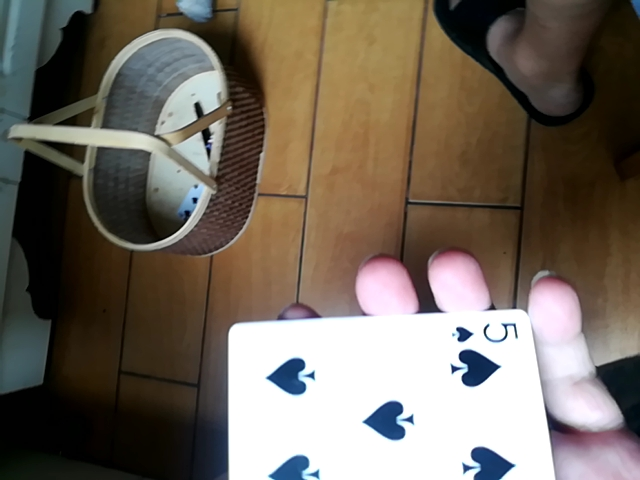ht 5: (229, 302, 556, 475)
